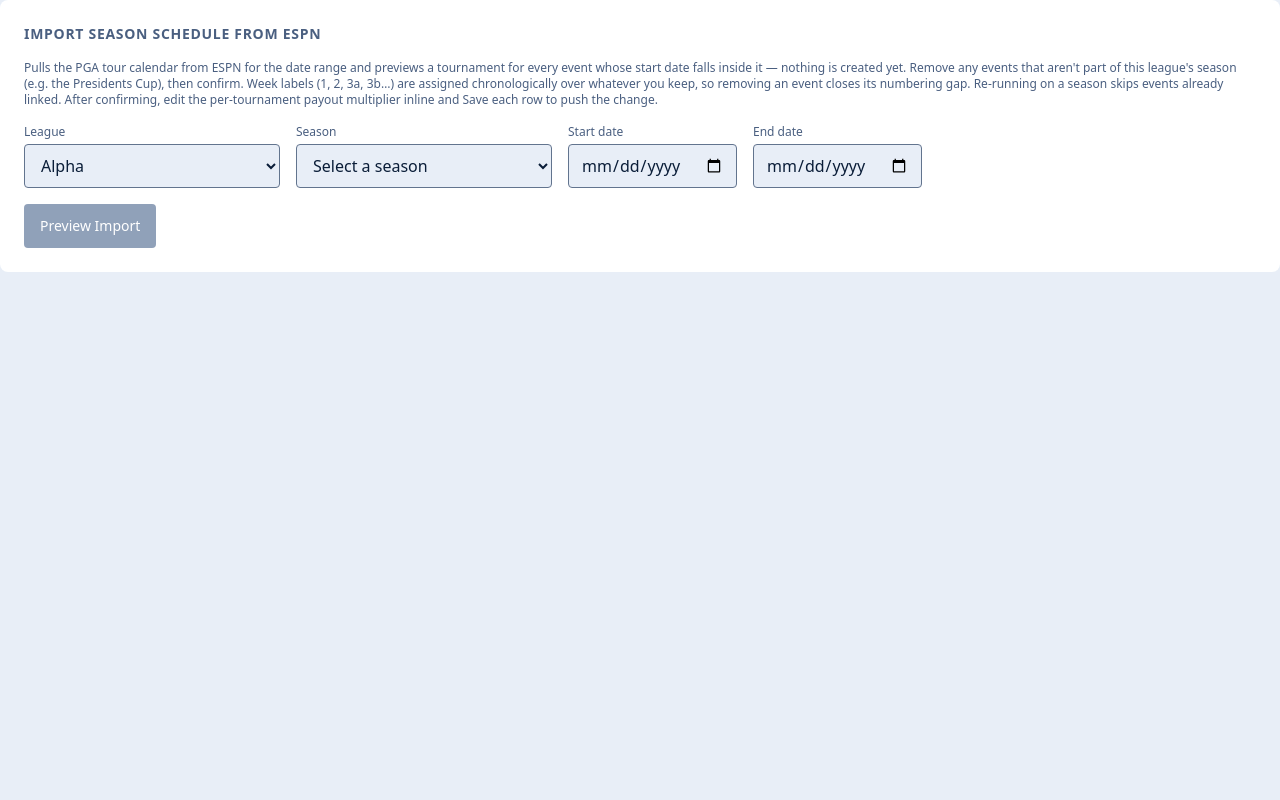
UploadScheduleSection › previews candidates, drops an unwanted one, then confirms only the kept entries
Select "2026 Spring" in the dropdown labelled "Season": [424, 166] box top-left (296, 144), bottom-right (552, 188)
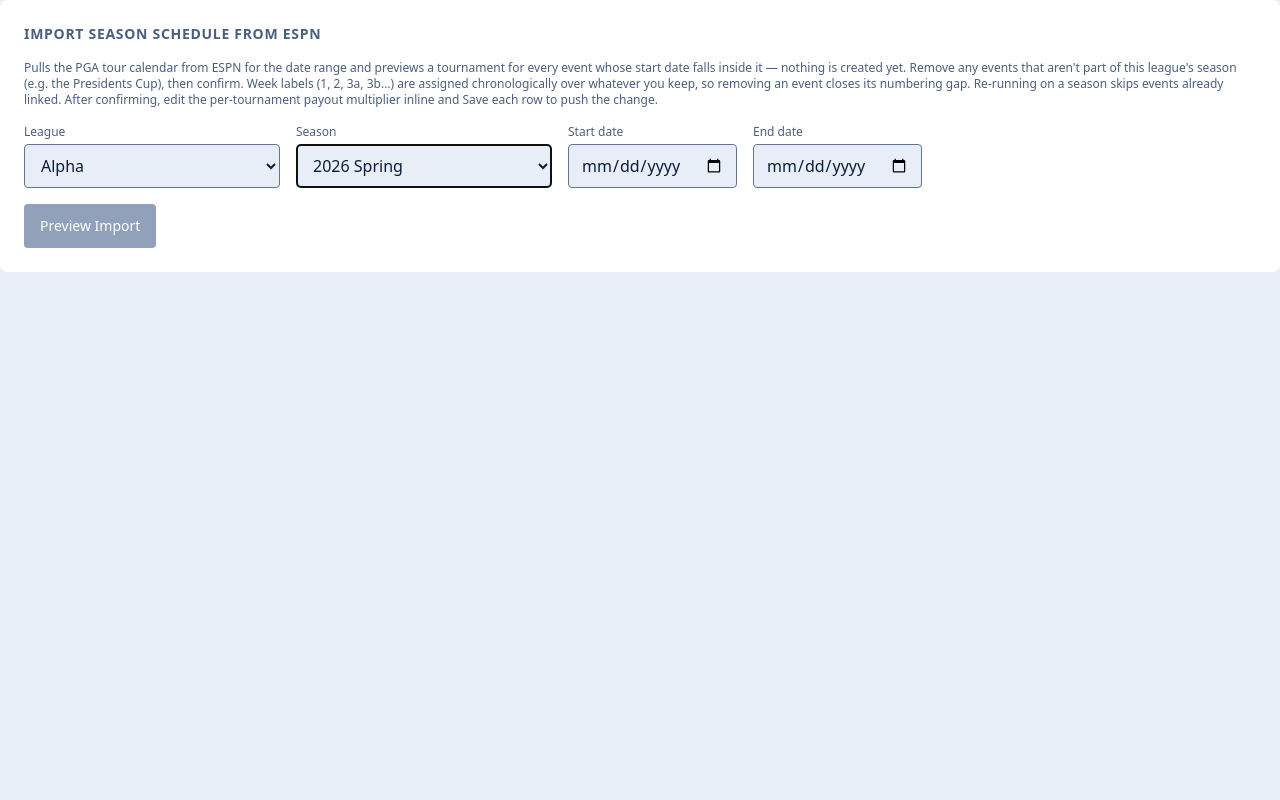
In the date field labelled "Start date": [652, 166] box top-left (568, 144), bottom-right (737, 188), type "2026-01-01"
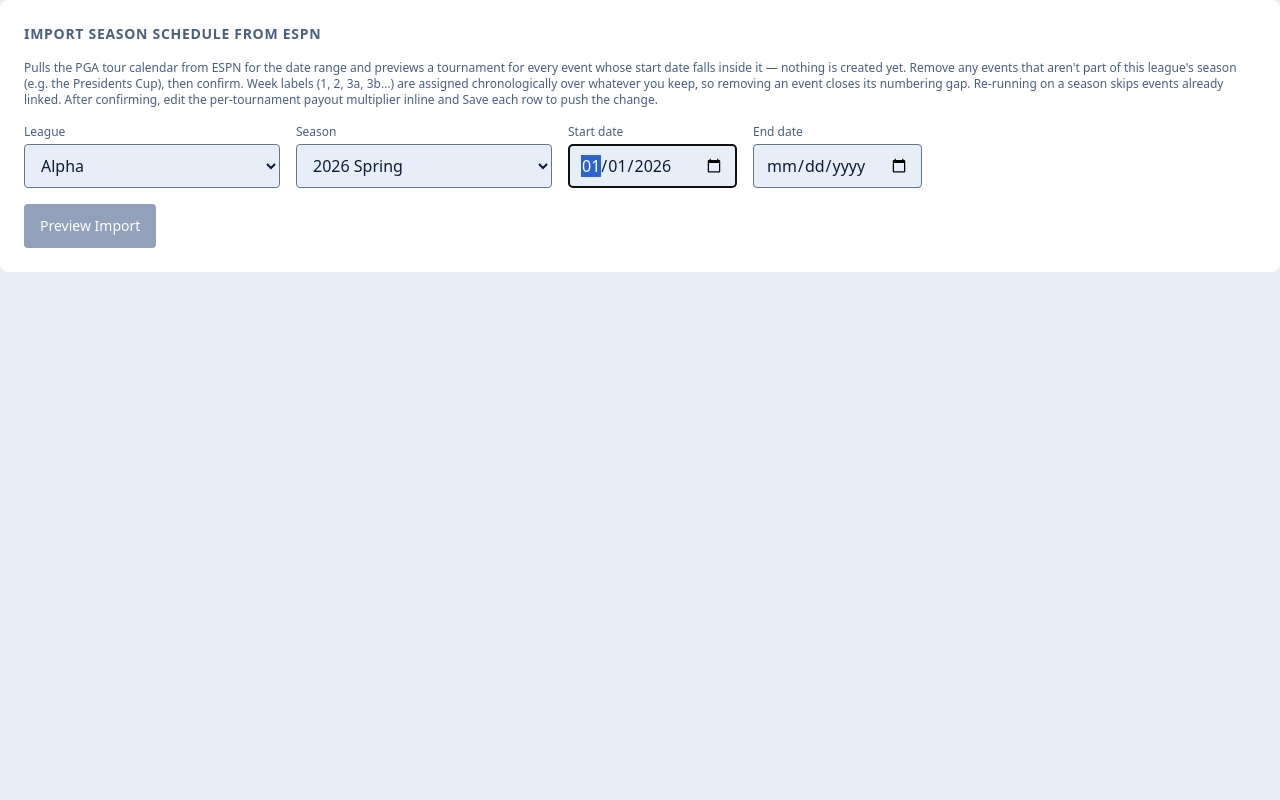
In the date field labelled "End date": [838, 166] box top-left (753, 144), bottom-right (922, 188), type "2026-12-31"
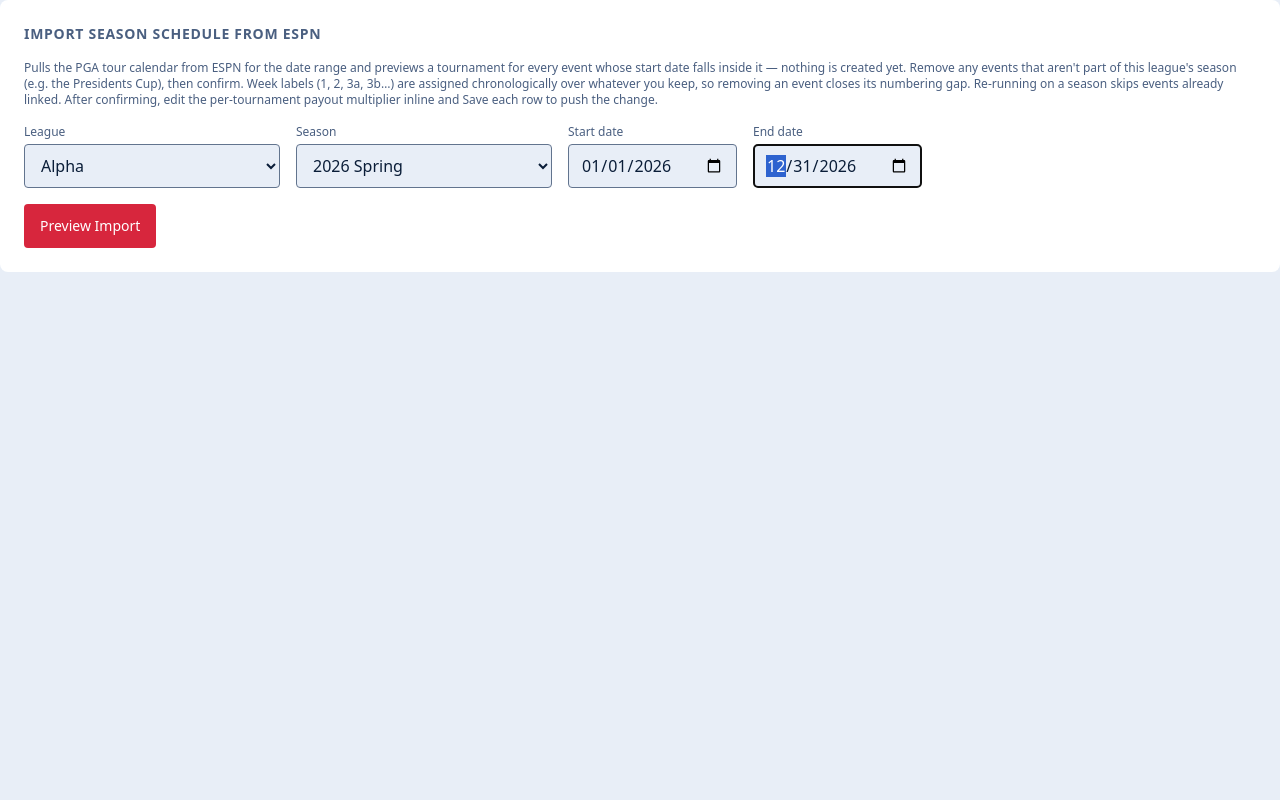
Click the button "Preview Import": [90, 226] box top-left (24, 204), bottom-right (156, 248)
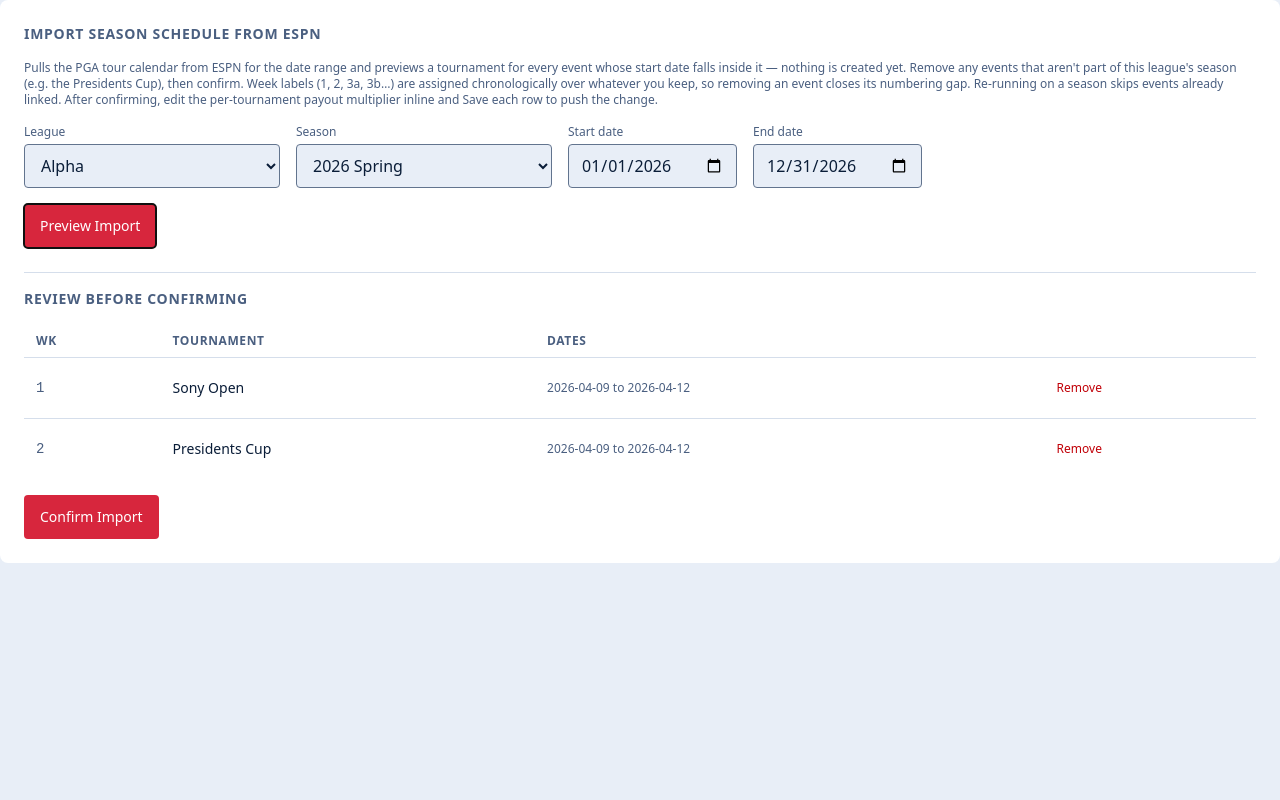
Expected: the heading "Review Before Confirming" is shown, top-left (24, 289), bottom-right (248, 308)
Click the 2nd button "Remove": [1079, 449] box top-left (1057, 427), bottom-right (1102, 471)
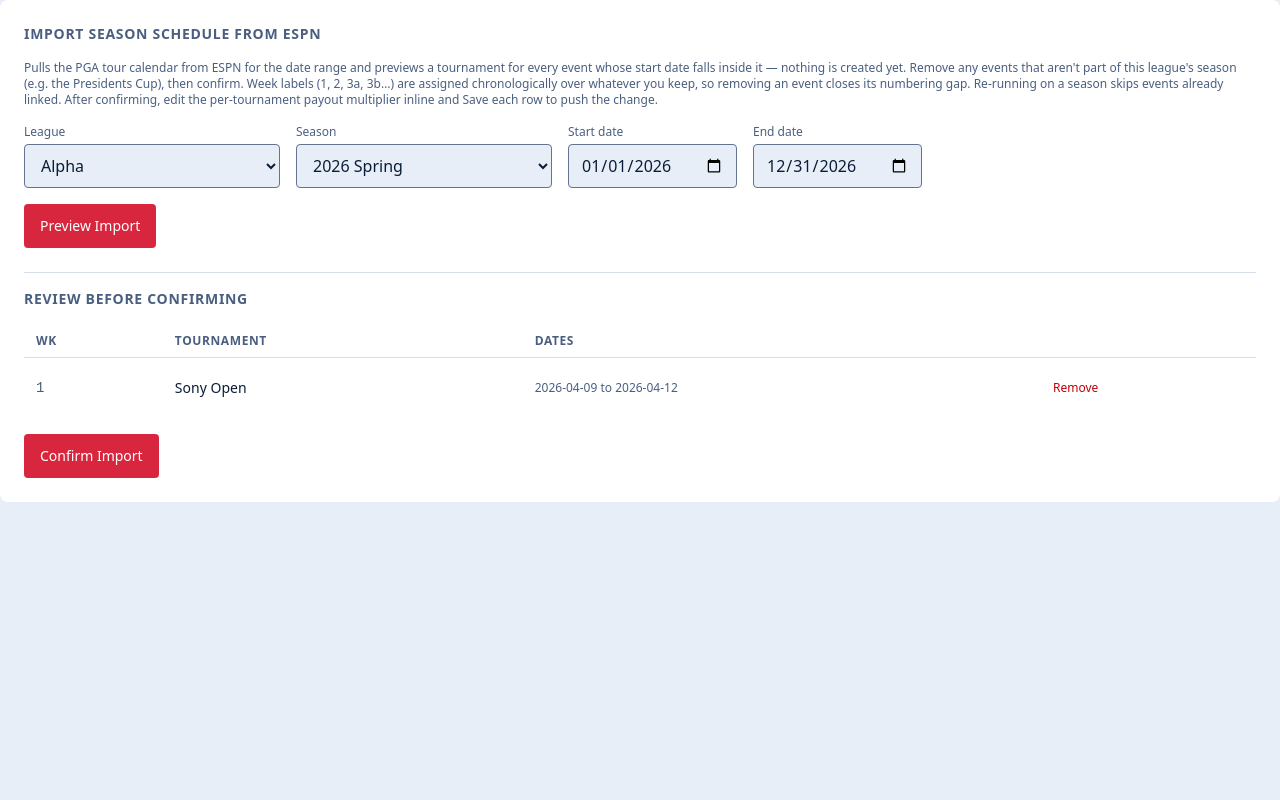
Expected: the text "Presidents Cup" is not shown
Click the button "Confirm Import": [91, 456] box top-left (24, 434), bottom-right (159, 478)
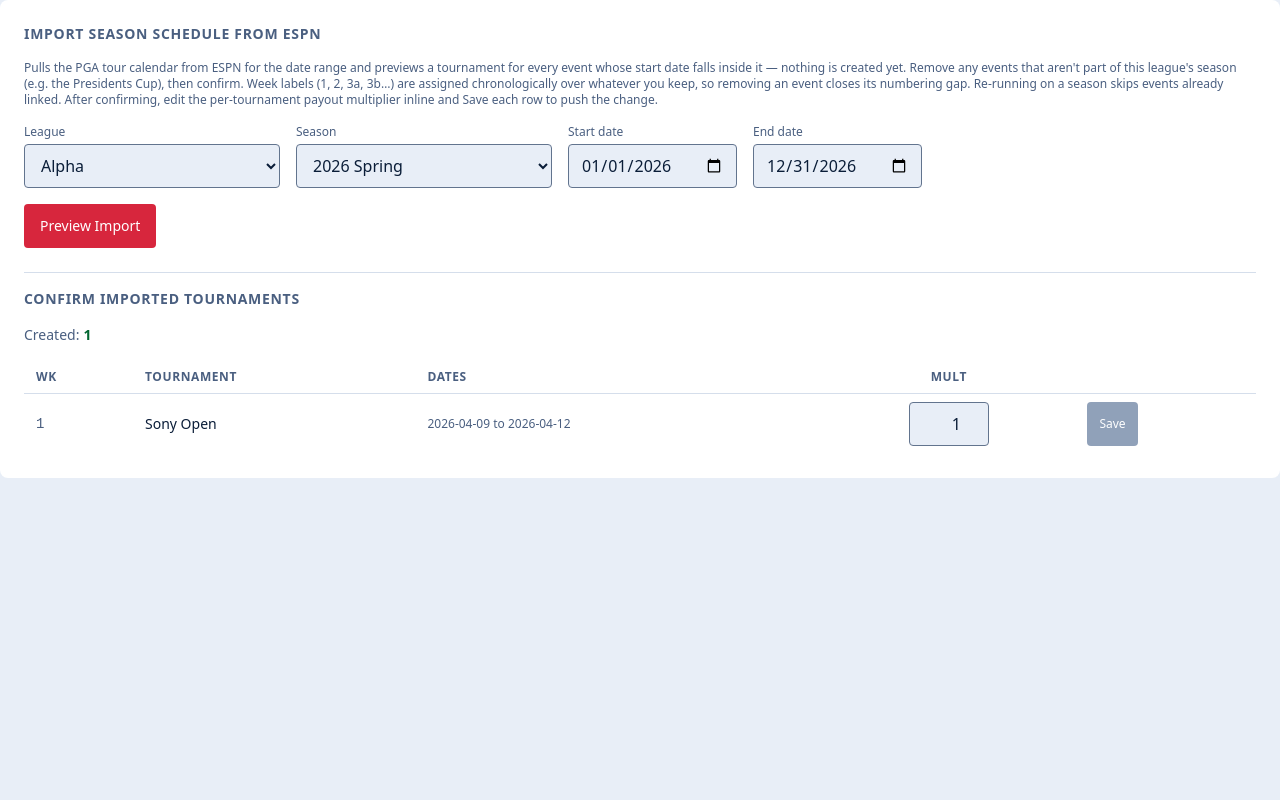
Expected: the heading "Confirm Imported Tournaments" is shown, top-left (24, 289), bottom-right (300, 308)
Expected: the heading "Review Before Confirming" is gone
